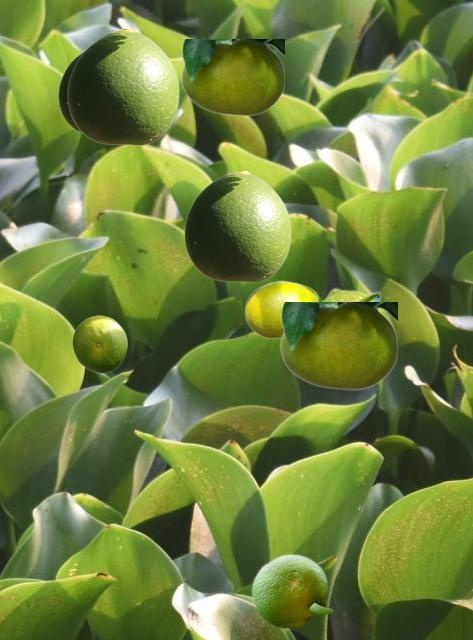dalandan: (67, 29, 178, 144), (184, 171, 290, 281), (280, 302, 396, 389), (181, 39, 283, 115), (250, 552, 333, 628), (244, 280, 322, 338), (72, 315, 126, 372), (322, 287, 395, 328), (58, 52, 82, 133)
